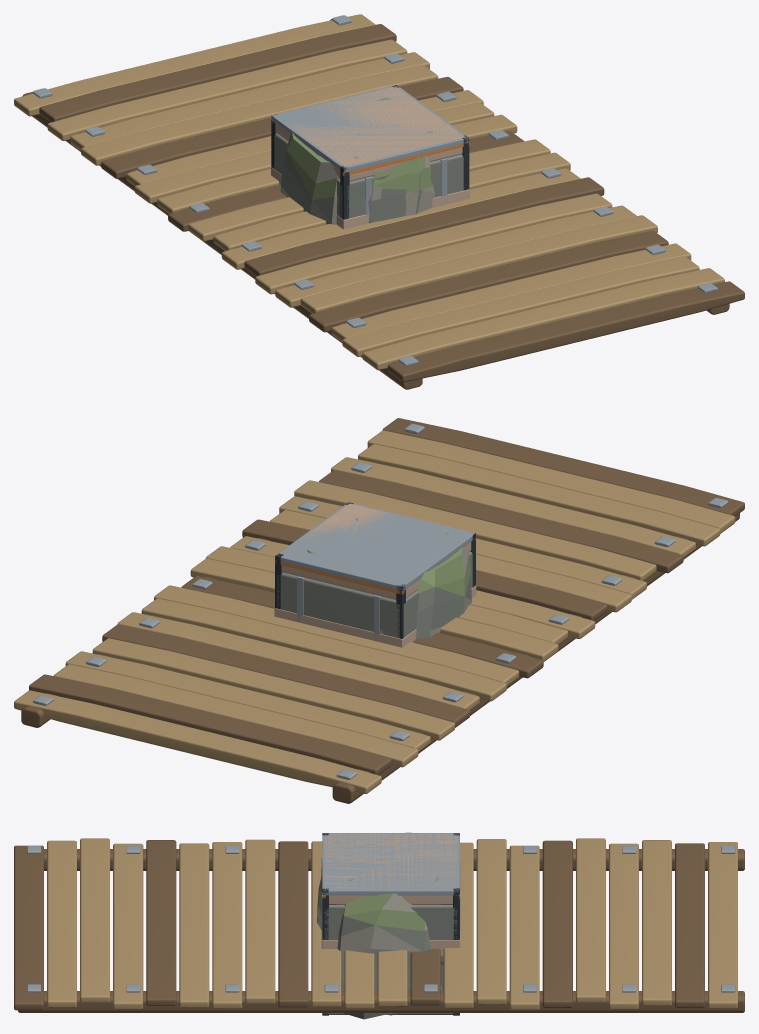
The model's file is MapProps.fbx.
The picture shows the model from 3 angles, top to bottom: view 1: azimuth 30°, elevation 25°; view 2: azimuth 150°, elevation 25°; view 3: azimuth 270°, elevation 25°; orthographic projection. The views are drawn at different scales.
Parts seen in each view (by area): view 1: Bridge_Mount, Ore_Mount, Kiln_Mount, Shelves_Mount, Granite_Mount; view 2: Bridge_Mount, Kiln_Mount, Ore_Mount, Shelves_Mount; view 3: Bridge_Mount, Kiln_Mount, Ore_Mount, Shelves_Mount.
Part boxes in pixels (x1,y1,x2,y2): Bridge_Mount: (14,14,744,389); Ore_Mount: (271,86,469,229); Kiln_Mount: (271,85,469,219); Shelves_Mount: (280,97,434,224); Granite_Mount: (354,131,432,215); Bridge_Mount: (14,418,744,803); Kiln_Mount: (275,502,475,638); Ore_Mount: (274,503,476,647); Shelves_Mount: (307,547,471,639); Bridge_Mount: (14,838,744,1012); Kiln_Mount: (322,833,459,1015); Ore_Mount: (321,834,460,1014); Shelves_Mount: (317,832,442,1019).
Size of the model in its own units: 2.81 by 1.05 by 5.31.
